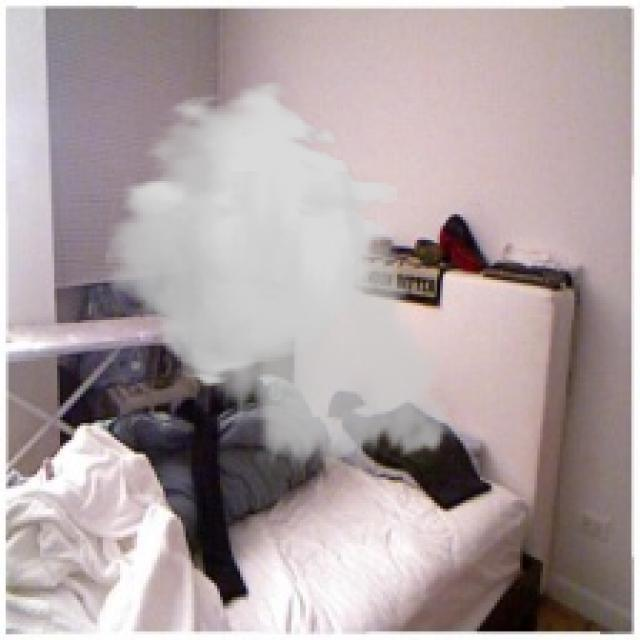Smoke: (106, 80, 466, 480)
